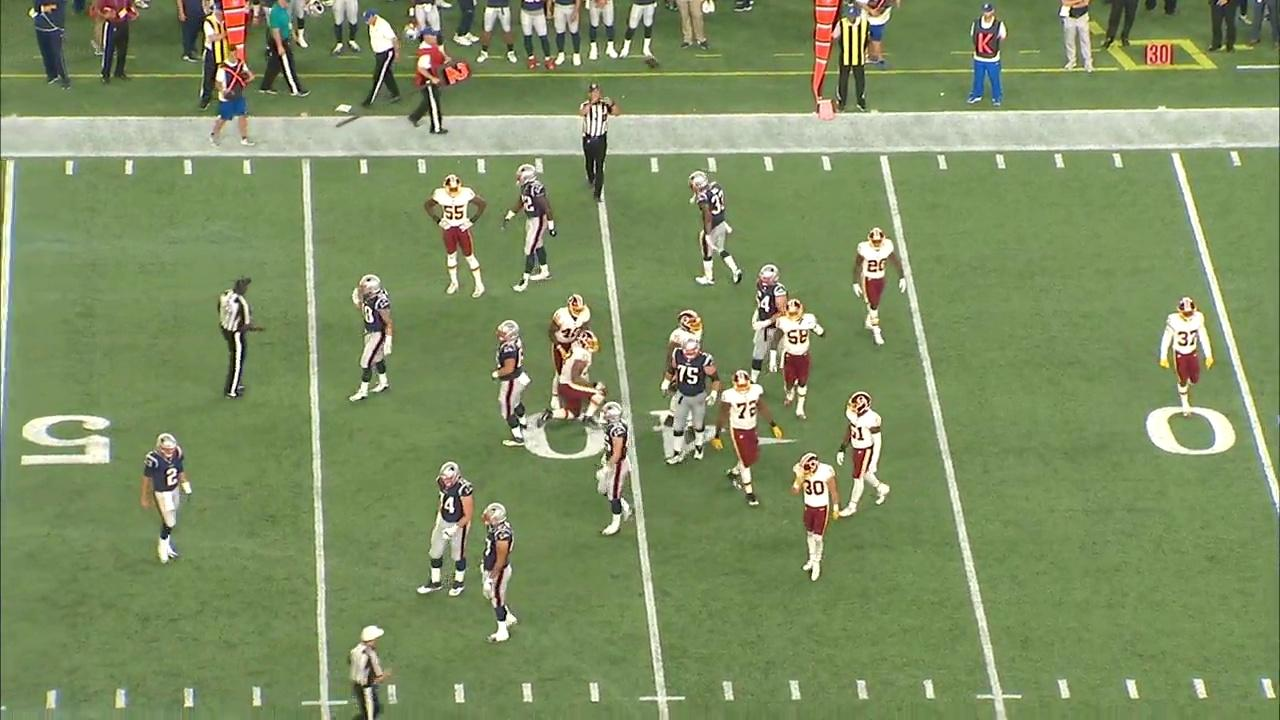five_hash: (637, 692, 686, 704), (976, 692, 1024, 702), (301, 698, 348, 708)
hash: (915, 672, 946, 707), (1117, 672, 1148, 707), (1186, 673, 1216, 707), (581, 676, 610, 709), (782, 676, 811, 707), (848, 674, 877, 705), (1050, 673, 1078, 705), (716, 674, 742, 707), (107, 684, 133, 714), (175, 683, 201, 713), (244, 681, 270, 711), (1255, 673, 1280, 704), (446, 680, 472, 709), (39, 683, 64, 713), (515, 678, 540, 707), (380, 679, 404, 707)
marker: (808, 0, 838, 104), (225, 0, 247, 68)
